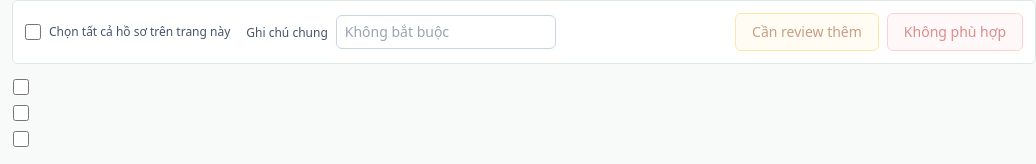
it: bulk selection UX › select-all selects only the visible rows of this queue
Click the checkbox with test id "bulk-select-all": (33, 32) [25,24,41,40]
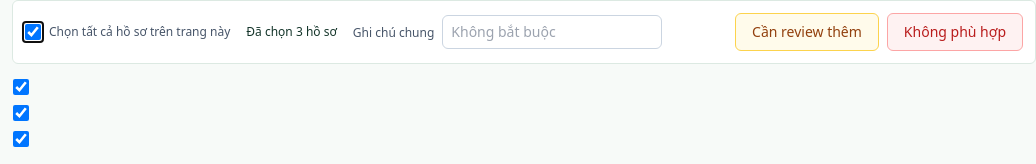
Result: the text with test id "bulk-selected-count" reads "Đã chọn 3 hồ sơ" at [246,24,337,40]
